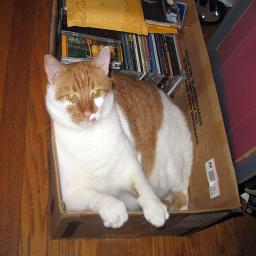catnose: (80, 108, 93, 120)
